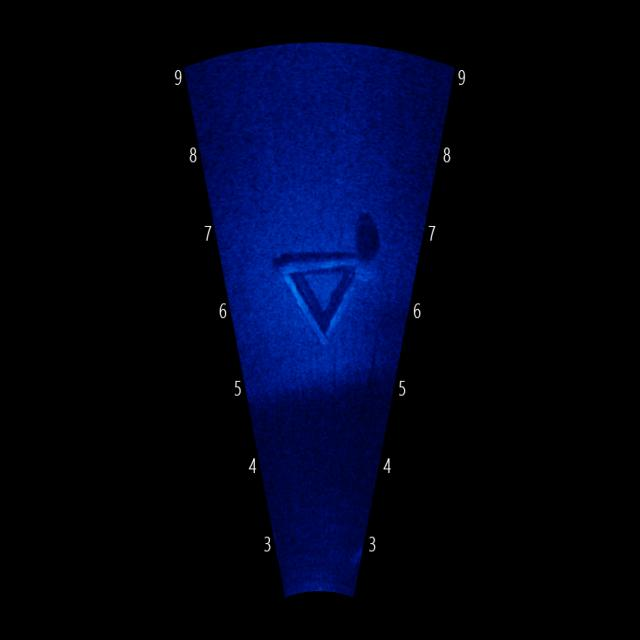triangle: (272, 231, 373, 345)
